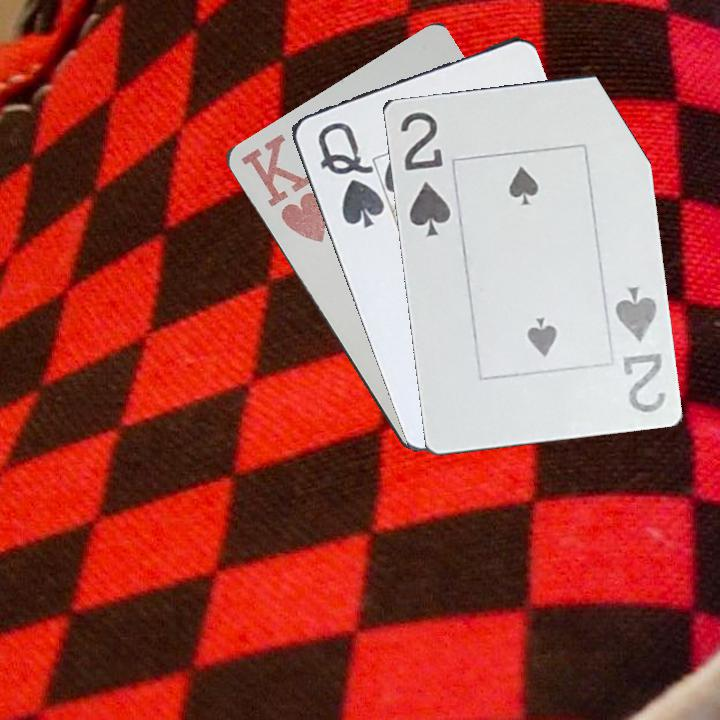2s: (396, 107, 453, 239), (611, 283, 668, 415)
Kh: (236, 131, 330, 246)
Qs: (313, 118, 387, 231)
